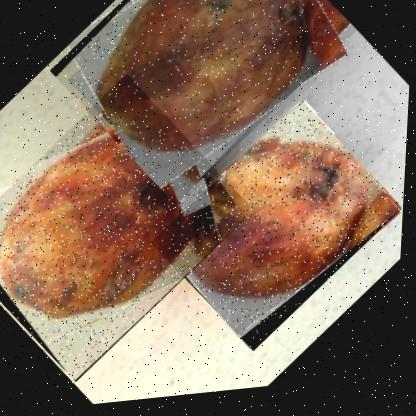guava_rotten: (0, 64, 263, 392), (148, 96, 410, 366), (43, 0, 361, 221)
